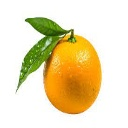orange: (16, 17, 103, 115)
